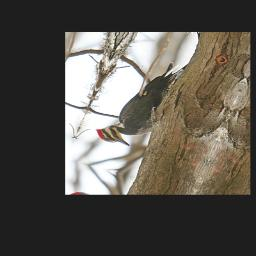Woodpecker: (92, 48, 189, 154)
